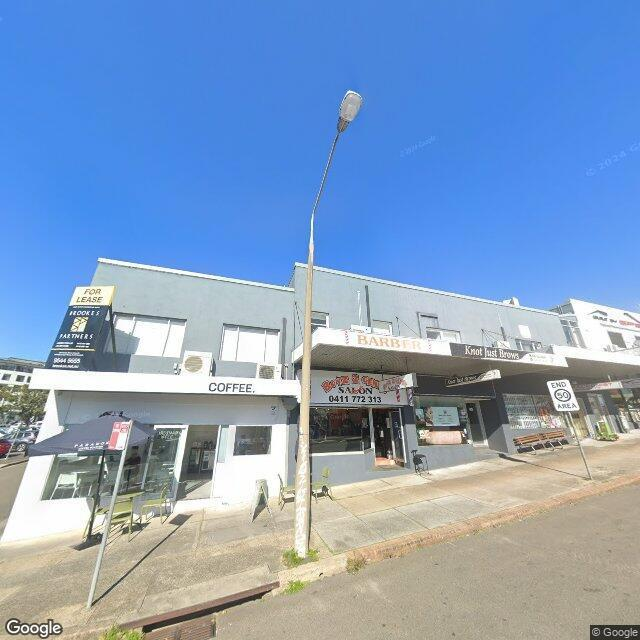steel-pole: (294, 219, 313, 557)
streetlight: (311, 90, 363, 220)
